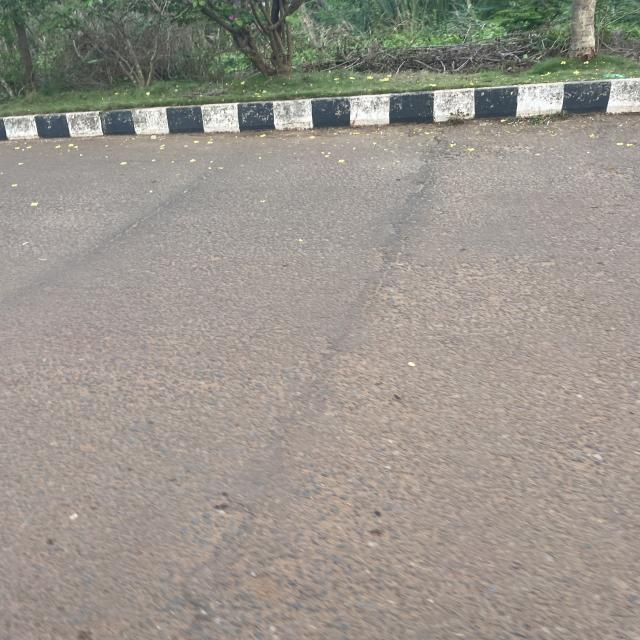D11: (21, 147, 416, 517)
